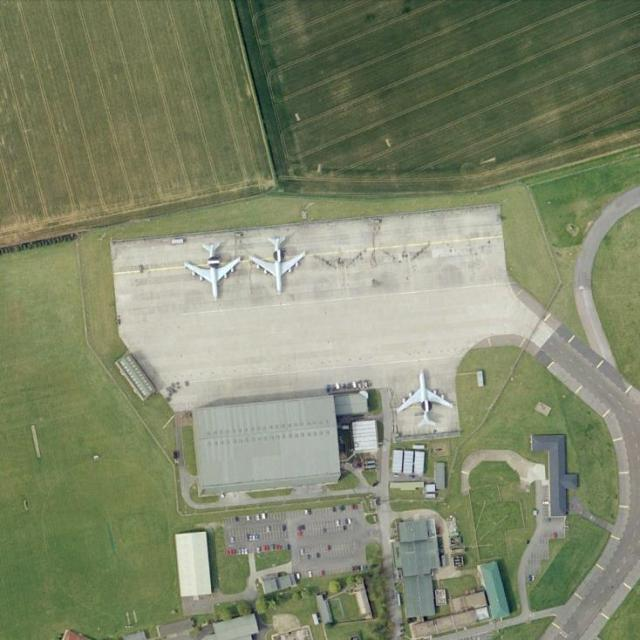fighter jet: (391, 366, 457, 431), (244, 234, 306, 293), (181, 240, 239, 299)
